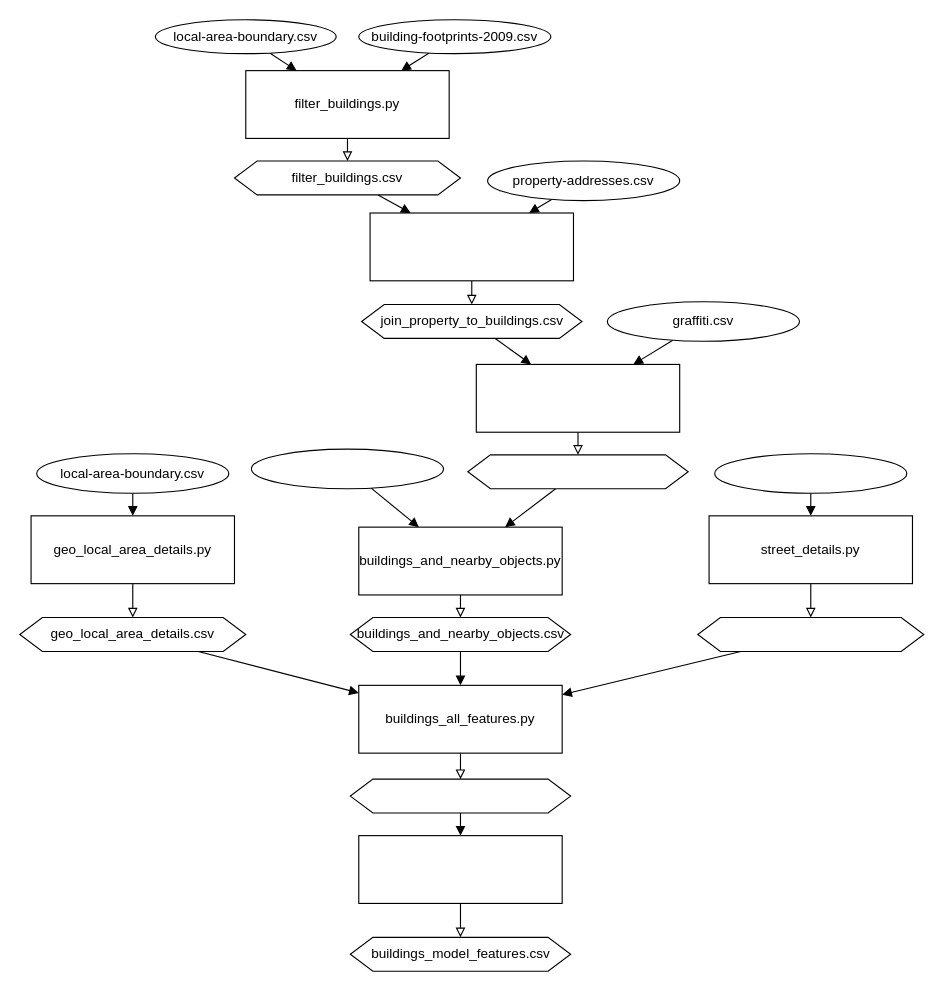
Image size: 944x991. Some labels were removed from this diagram. The box of each missing label's shape, as (x1, y1, x2, y2) in pixels:
buildings_all_features.csv: (349, 778, 571, 813)
buildings_model_features.py: (358, 835, 562, 903)
buildings_with_graffiti_counts.csv: (467, 454, 688, 489)
buildings_with_graffiti_counts.py: (475, 363, 680, 432)
join_property_to_buildings.py: (369, 212, 573, 281)
public-streets.csv: (714, 453, 907, 493)
street-lighting-poles.csv: (250, 448, 444, 489)
street_details.csv: (697, 616, 924, 651)
